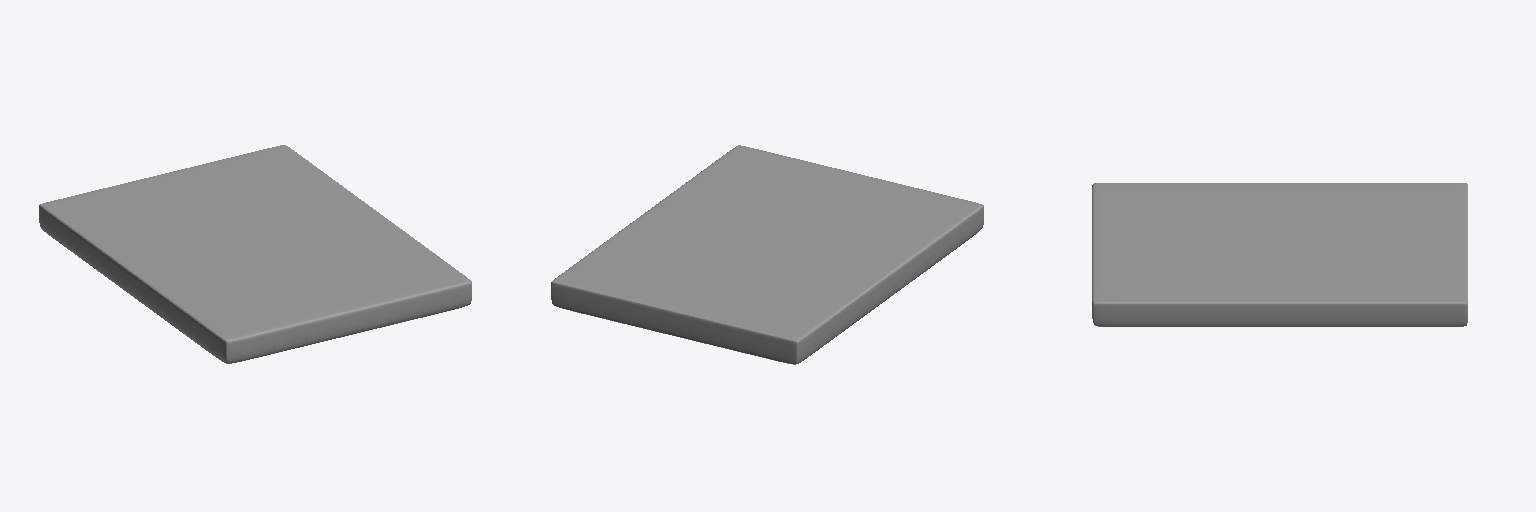
The model's file is mattress.obj.
3 views of the same model, side by side, from view 1: azimuth 30°, elevation 25°; view 2: azimuth 150°, elevation 25°; view 3: azimuth 270°, elevation 25° (orthographic).
Parts seen in each view (by area): view 1: Cube; view 2: Cube; view 3: Cube.
Boxes of the visible parts, <box> form: Cube: <box>39,145,471,363</box>; Cube: <box>551,145,983,364</box>; Cube: <box>1092,183,1467,326</box>.
Size of the model in its own units: 1.38 by 0.1464 by 1.81.